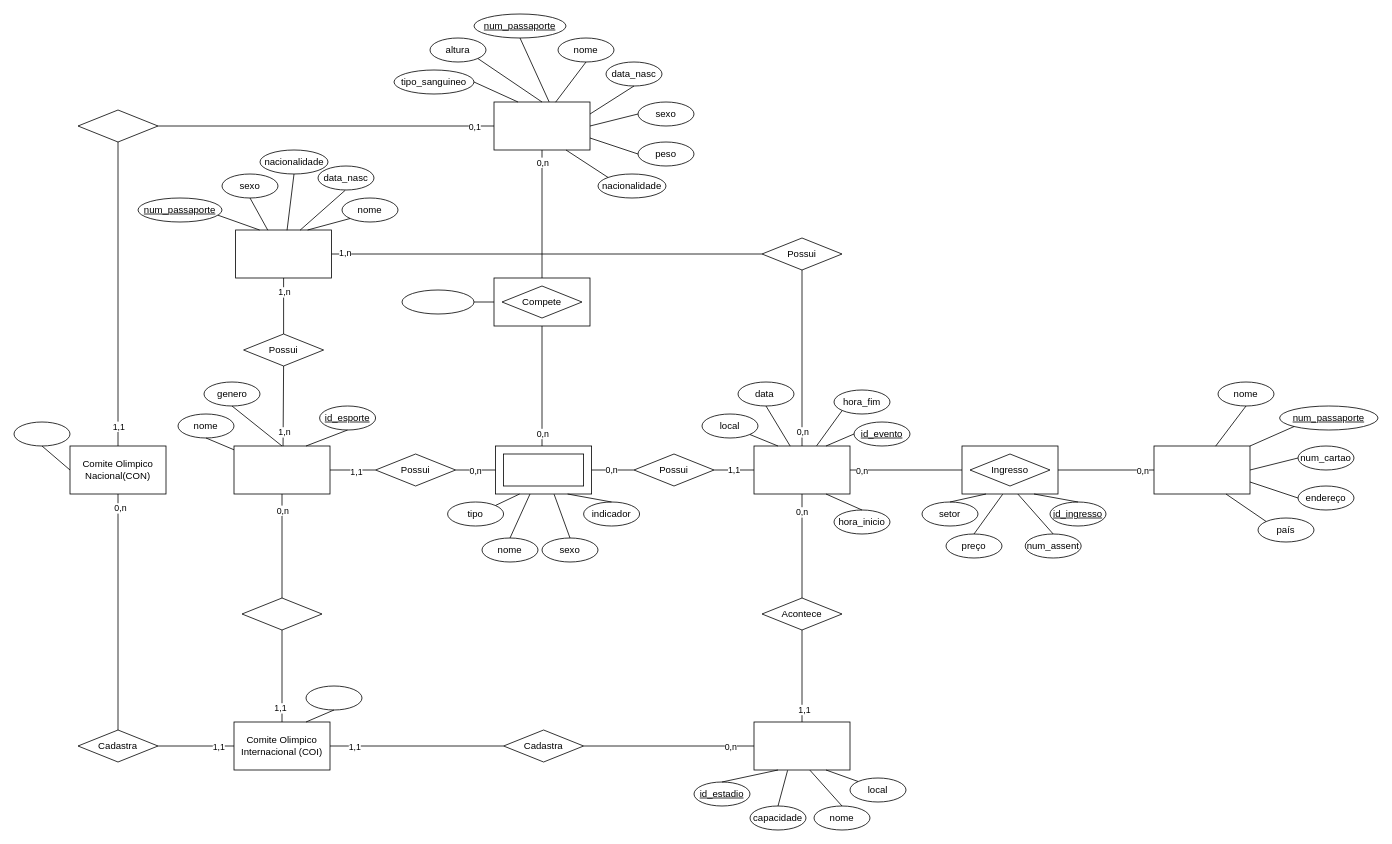
This 1392x844 diagram has some shape labels left out. Each missing label, with the centre of its shape:
"Arbitro" belongs at (x=283, y=253).
"Atleta" belongs at (x=541, y=125).
"Define" belongs at (x=281, y=613).
"Esportes" belongs at (x=281, y=469).
"Estadio" belongs at (x=801, y=745).
"Evento" belongs at (x=801, y=469).
"id_coi" belongs at (x=333, y=697).
"id_con" belongs at (x=41, y=433).
"indice_olimpico" belongs at (x=437, y=301).
"Informam" belongs at (x=117, y=125).
"Modalidades" belongs at (x=543, y=469).
"Torcedor" belongs at (x=1201, y=469).
